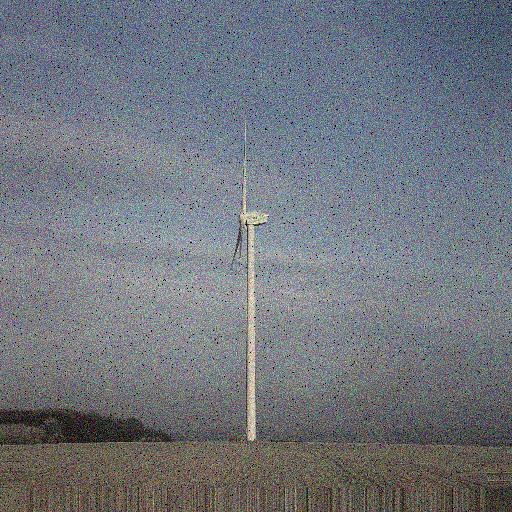wind turbine: (225, 115, 271, 446)
